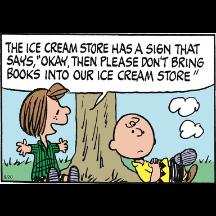charlie: (108, 113, 198, 184)
